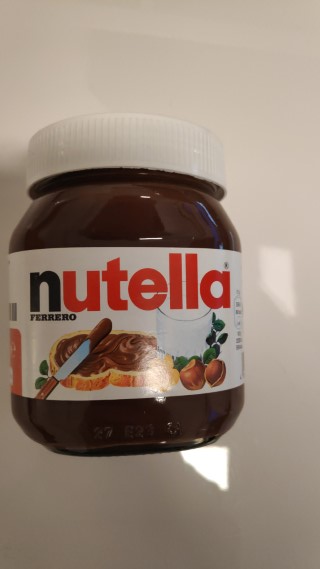nutella: (3, 108, 249, 458)
